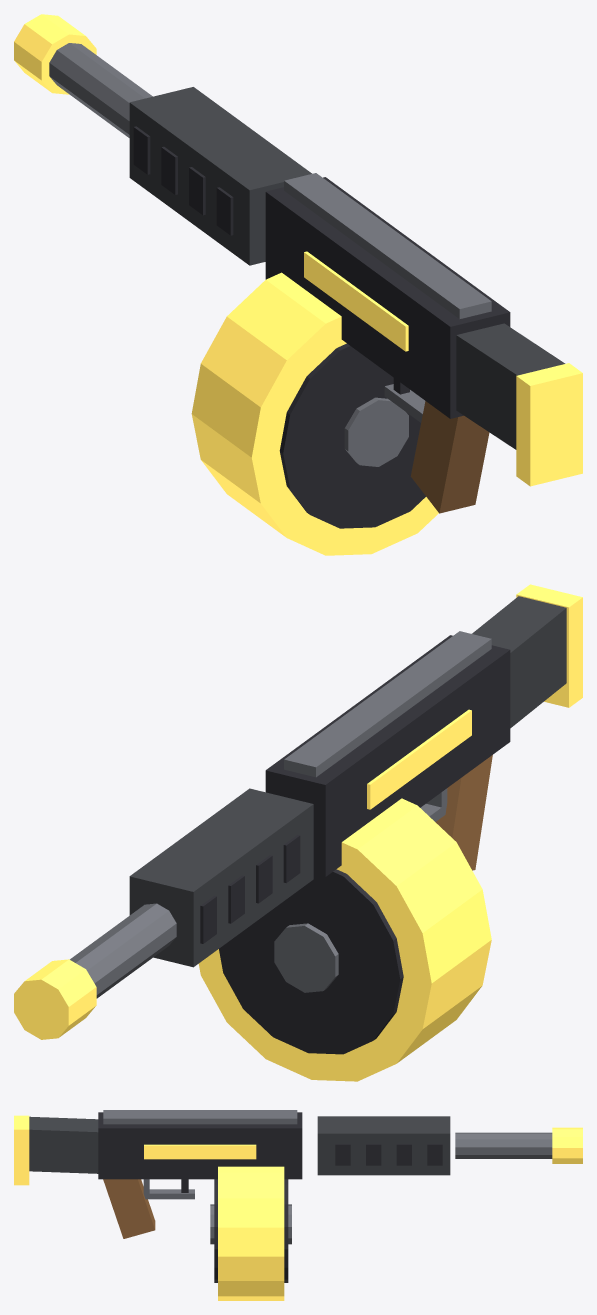
File: drum_gun.glb
3 views of the same model, one above another, from view 1: azimuth 30°, elevation 25°; view 2: azimuth 150°, elevation 25°; view 3: azimuth 270°, elevation 25° (orthographic). The views are drawn at different scales.
Parts seen in each view (by area): view 1: DrumGun; view 2: DrumGun; view 3: DrumGun.
Boxes of the visible parts, box(x1,y1,x2,y2) form: DrumGun: box(14, 14, 582, 555); DrumGun: box(14, 584, 582, 1081); DrumGun: box(14, 1110, 582, 1300).
Bounding box in the file's own units: 0.3 × 0.388 × 1.12.
